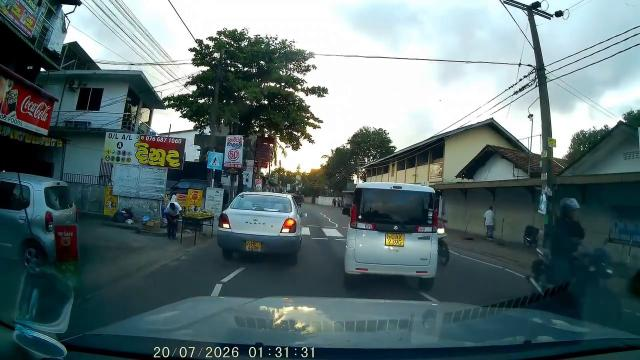illegal overtaking: (342, 178, 445, 289)
